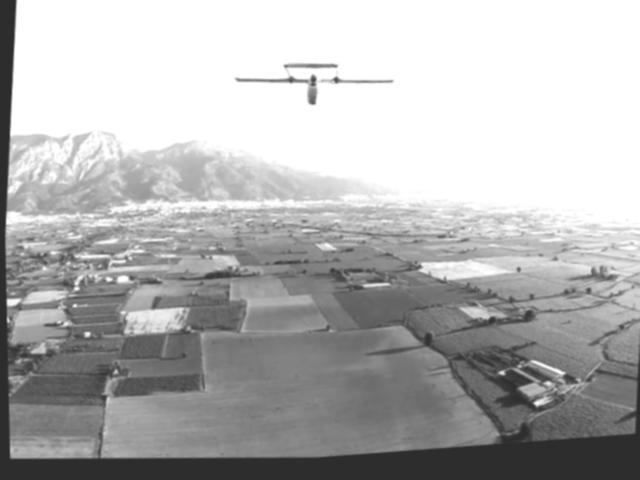hedef: (218, 16, 409, 166)
